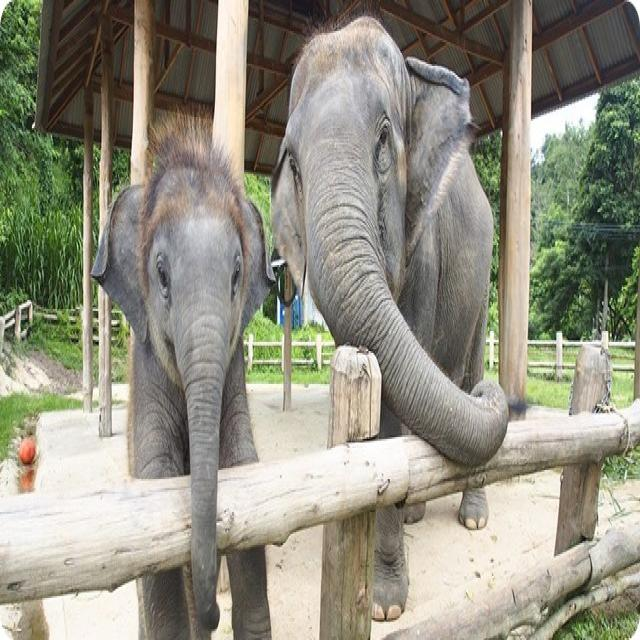Elephant: (263, 0, 526, 629), (86, 99, 279, 640)
